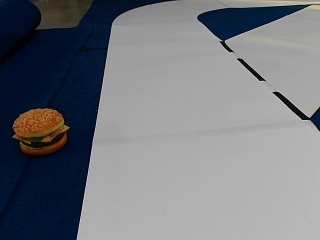burger: (11, 108, 69, 155)
